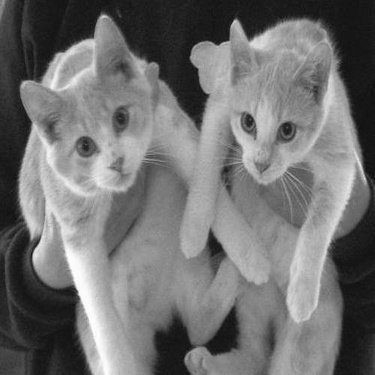cat: (16, 13, 274, 373), (184, 18, 367, 371)
